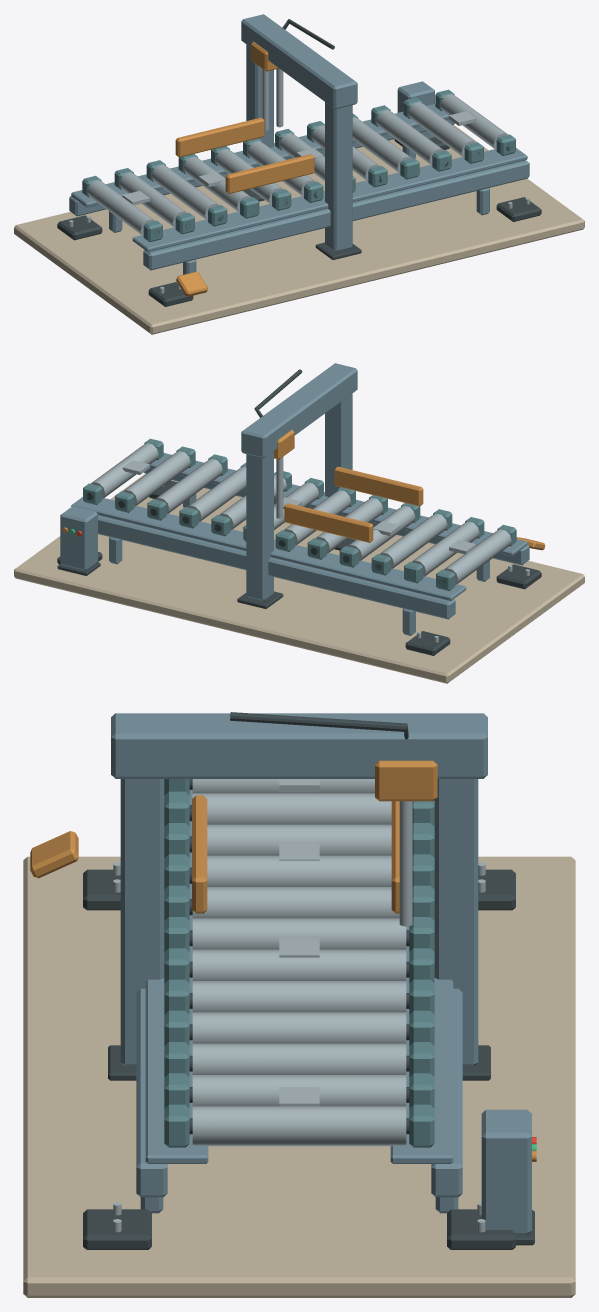
Rendered from CUT-SLAB-lod2.glb.
3 renders of one model, top to bottom at view 1: azimuth 30°, elevation 25°; view 2: azimuth 150°, elevation 25°; view 3: azimuth 270°, elevation 25°, orthographic. The views are drawn at different scales.
Parts seen in each view (by area): view 1: foundation, bed_side_1.175, bearing_seat_1.175, torch_bridge, gantry_leg_1.25, section_guide_-1, section_guide_1, bearing_seat_-1.175, gantry_leg_-1.25, support_roll_9, support_roll_10, support_roll_2 (+18 smaller); view 2: foundation, bed_side_-1.175, bearing_seat_-1.175, torch_bridge, gantry_leg_-1.25, control_cabinet, gantry_leg_1.25, section_guide_1, section_guide_-1, bearing_seat_1.175, support_roll_9, support_roll_10 (+14 smaller); view 3: foundation, torch_bridge, gantry_leg_1.25, gantry_leg_-1.25, support_roll_11, support_roll_8, support_roll_7, support_roll_9, support_roll_6, support_roll_5, control_cabinet, support_roll_10 (+41 smaller).
Part boxes in pixels (x1,y1,x2,y2): foundation: [14, 124, 584, 334]; bed_side_1.175: [143, 160, 529, 270]; bearing_seat_1.175: [132, 148, 527, 252]; torch_bridge: [241, 14, 357, 109]; gantry_leg_1.25: [325, 102, 352, 251]; section_guide_-1: [175, 117, 264, 157]; section_guide_1: [225, 154, 314, 193]; bearing_seat_-1.175: [71, 104, 448, 207]; gantry_leg_-1.25: [246, 44, 273, 194]; support_roll_9: [376, 109, 443, 165]; support_roll_10: [408, 102, 475, 157]; support_roll_2: [151, 164, 219, 220]; foundation: [14, 473, 584, 683]; bed_side_-1.175: [98, 515, 455, 619]; bearing_seat_-1.175: [71, 497, 466, 601]; torch_bridge: [241, 363, 357, 458]; gantry_leg_-1.25: [246, 451, 273, 600]; control_cabinet: [60, 506, 97, 570]; gantry_leg_1.25: [325, 393, 352, 543]; section_guide_1: [334, 466, 423, 506]; section_guide_-1: [284, 503, 373, 542]; bearing_seat_1.175: [150, 453, 527, 556]; support_roll_9: [155, 458, 222, 514]; support_roll_10: [123, 451, 190, 506]; foundation: [23, 856, 575, 1297]; torch_bridge: [111, 713, 487, 778]; gantry_leg_1.25: [120, 779, 164, 1066]; gantry_leg_-1.25: [434, 779, 478, 1066]; support_roll_11: [192, 1106, 406, 1146]; support_roll_8: [192, 1012, 406, 1043]; support_roll_7: [192, 981, 406, 1012]; support_roll_9: [192, 1043, 406, 1074]; support_roll_6: [192, 949, 406, 980]; support_roll_5: [192, 918, 406, 949]; control_cabinet: [481, 1109, 531, 1234]; support_roll_10: [192, 1075, 406, 1106].
Bounding box in the file's own units: 8 × 3.46 × 4.4.
